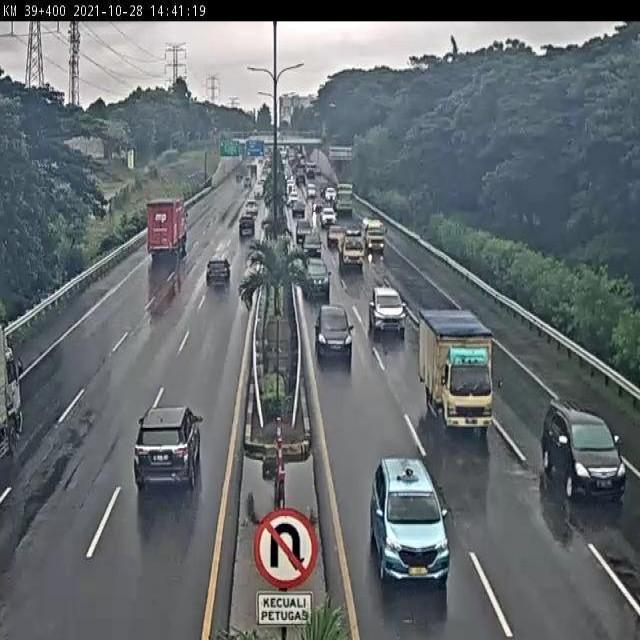car: (367, 459, 449, 585), (540, 401, 627, 499), (133, 407, 203, 489), (314, 303, 352, 361), (366, 285, 405, 336), (301, 256, 329, 300), (205, 257, 231, 287)
truck: (418, 307, 494, 433), (146, 200, 186, 257)
